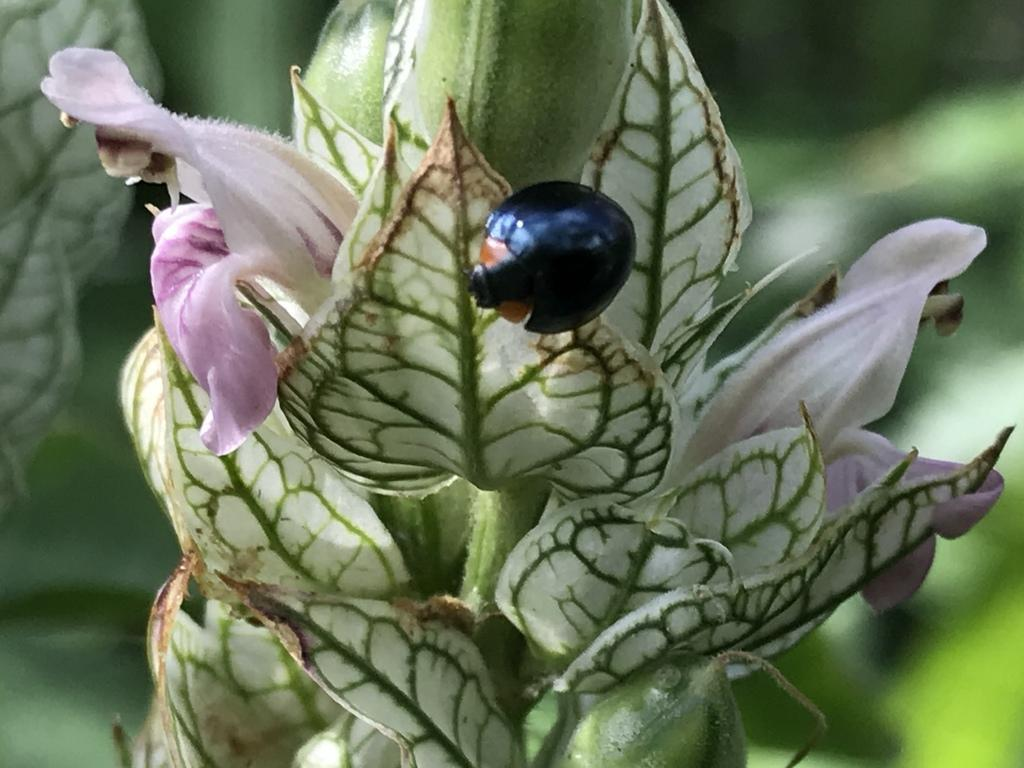ladybug: (463, 175, 643, 339)
